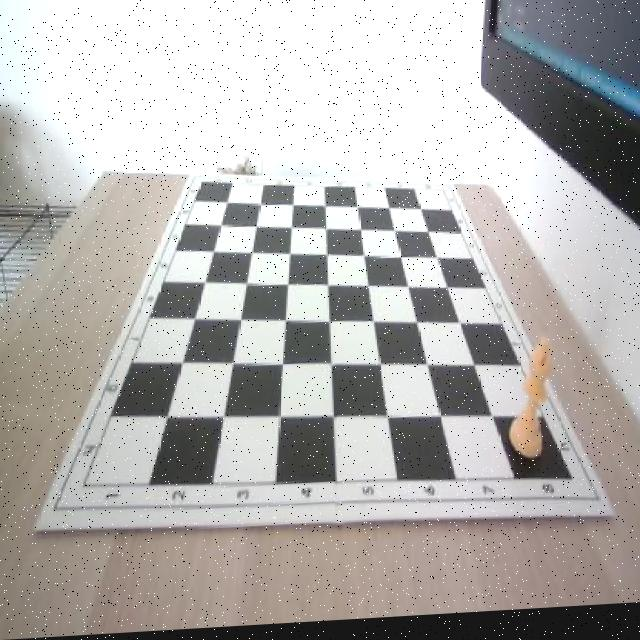black-rook: (506, 341, 551, 467)
